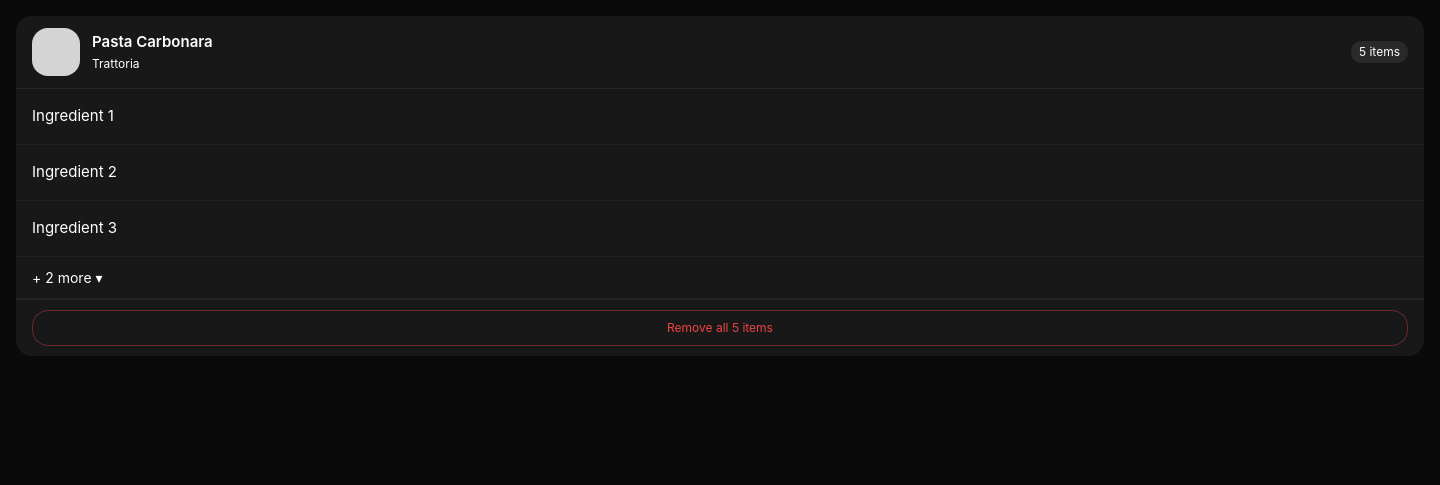
Test case: GroceryRecipeView › collapsing after expand hides extra ingredients again
Click the button with aria-label "Show 2 more ingredients".
click(78, 278)  # box [16,257,1424,299]
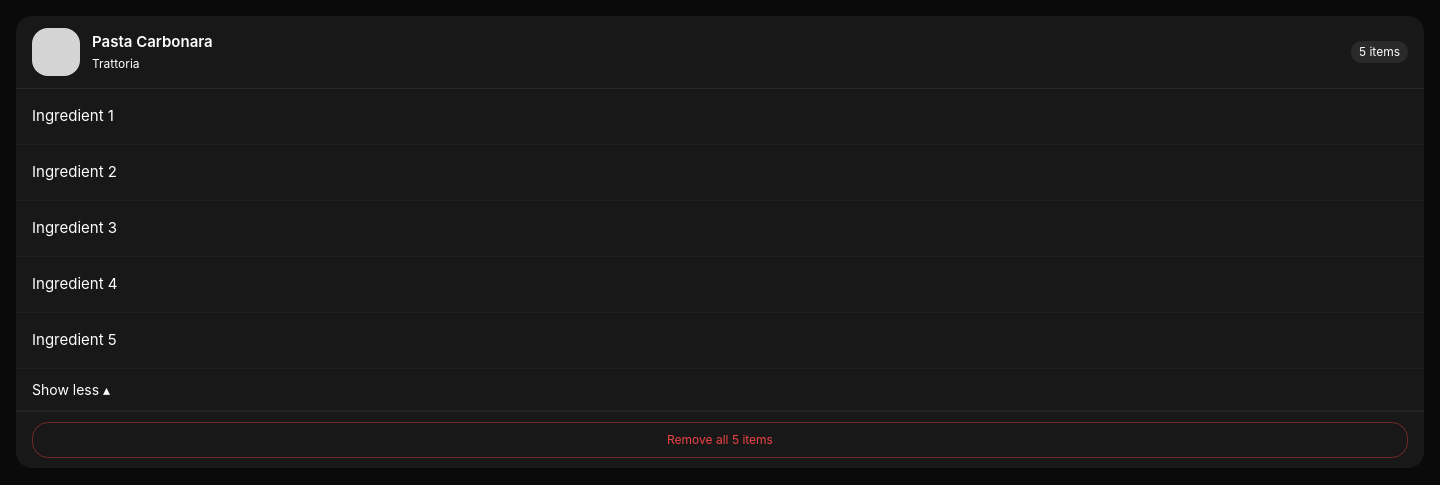
Now the text "Ingredient 5" is shown, box [32,329,117,352]
Click the button with aria-label "Show fewer ingredients".
click(71, 390)  # box [16,369,1424,411]
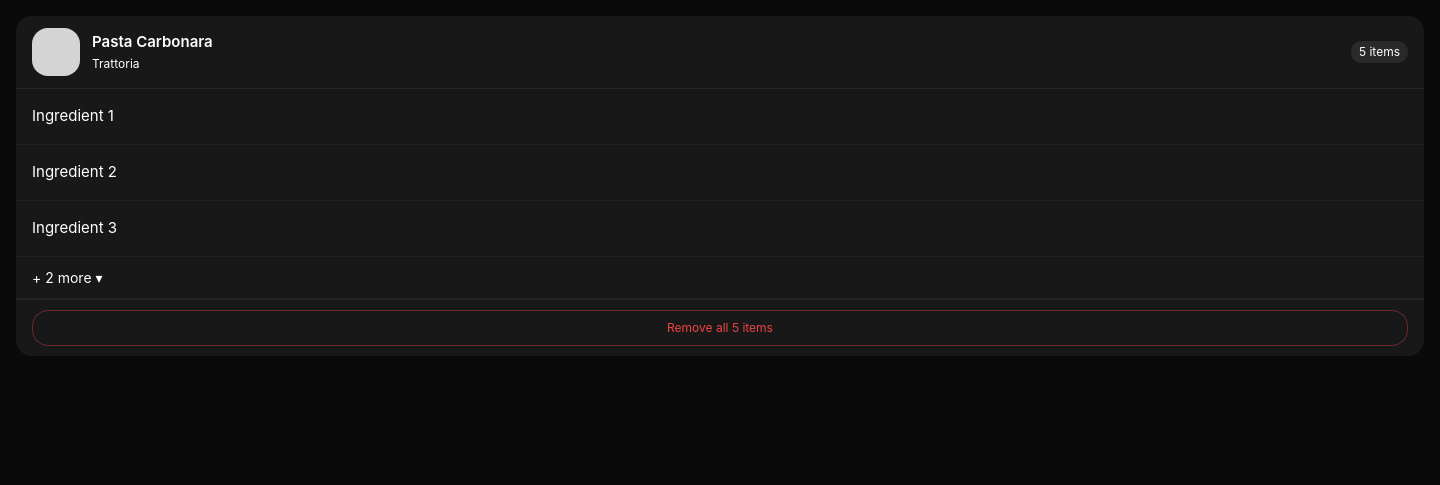
Now the text "Ingredient 4" is gone
Now the text "Ingredient 5" is gone
